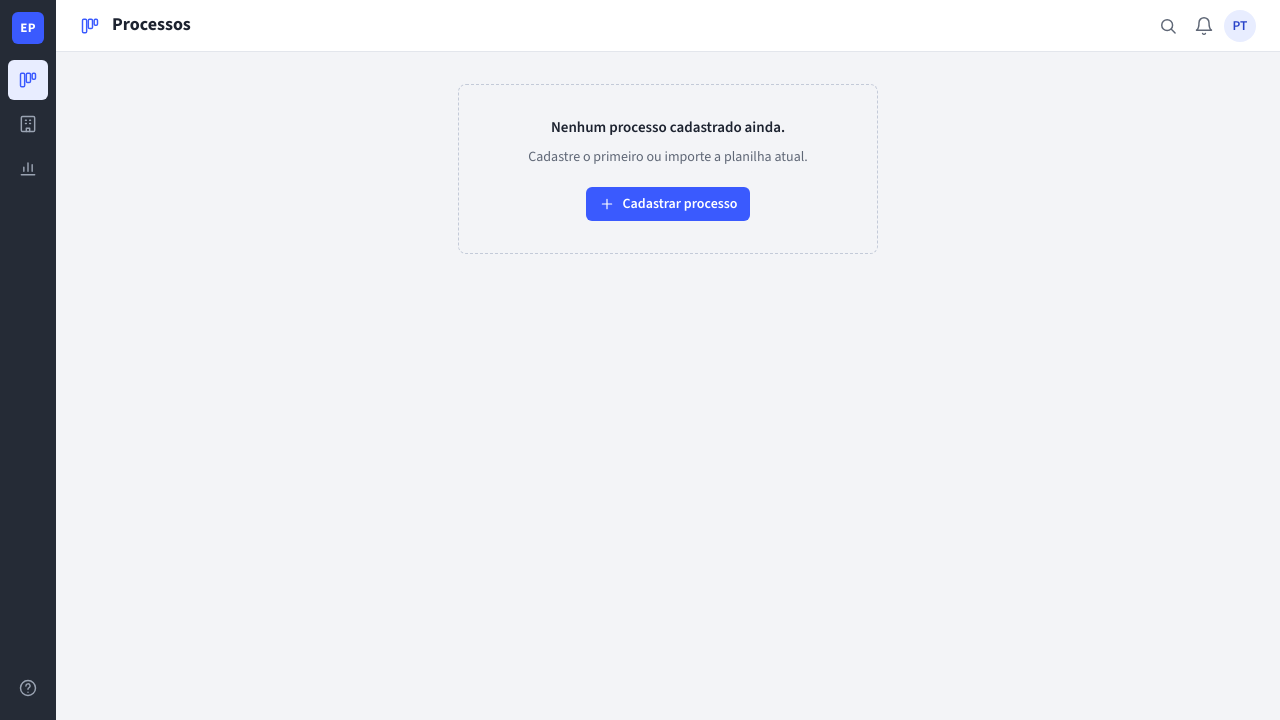
Test: Painel abre a tela Em breve e fica marcado
Click the button named "Painel". click: (28, 168)
box: x1=8 y1=148 x2=48 y2=188
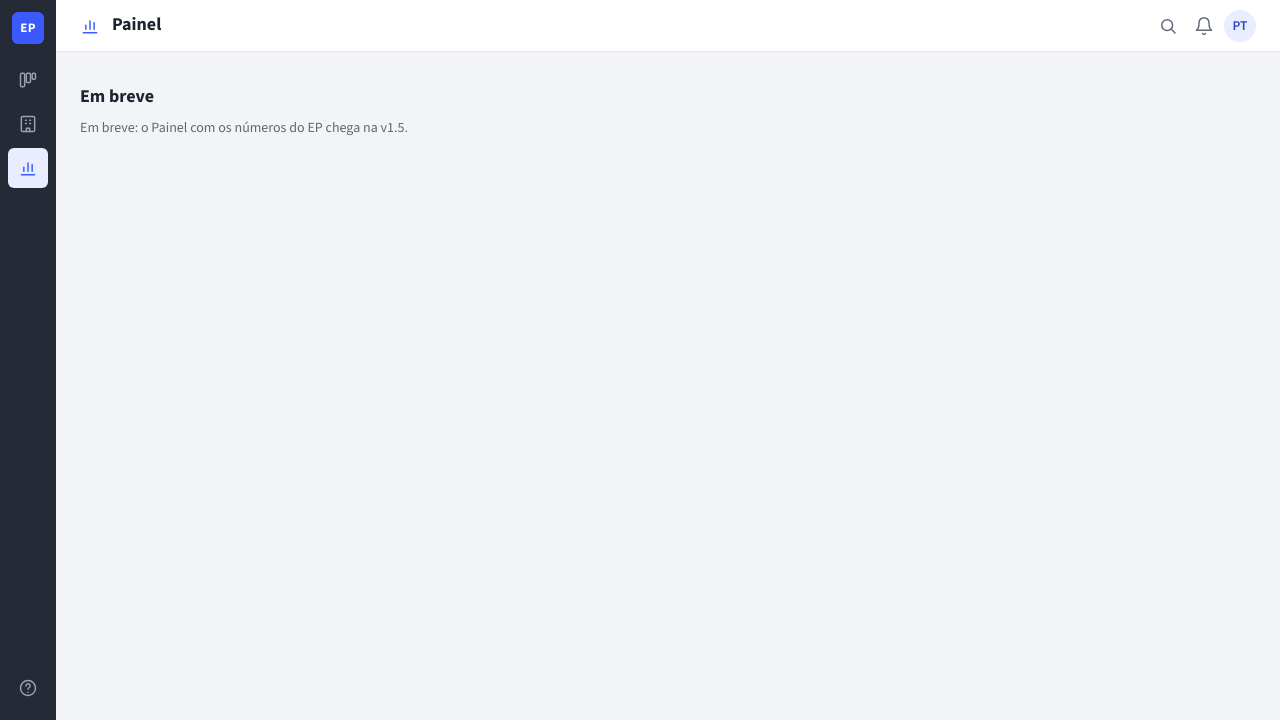
expect the text "Em breve: o Painel com os números do EP chega na v1.5." is shown: met, box x1=80 y1=118 x2=408 y2=138
